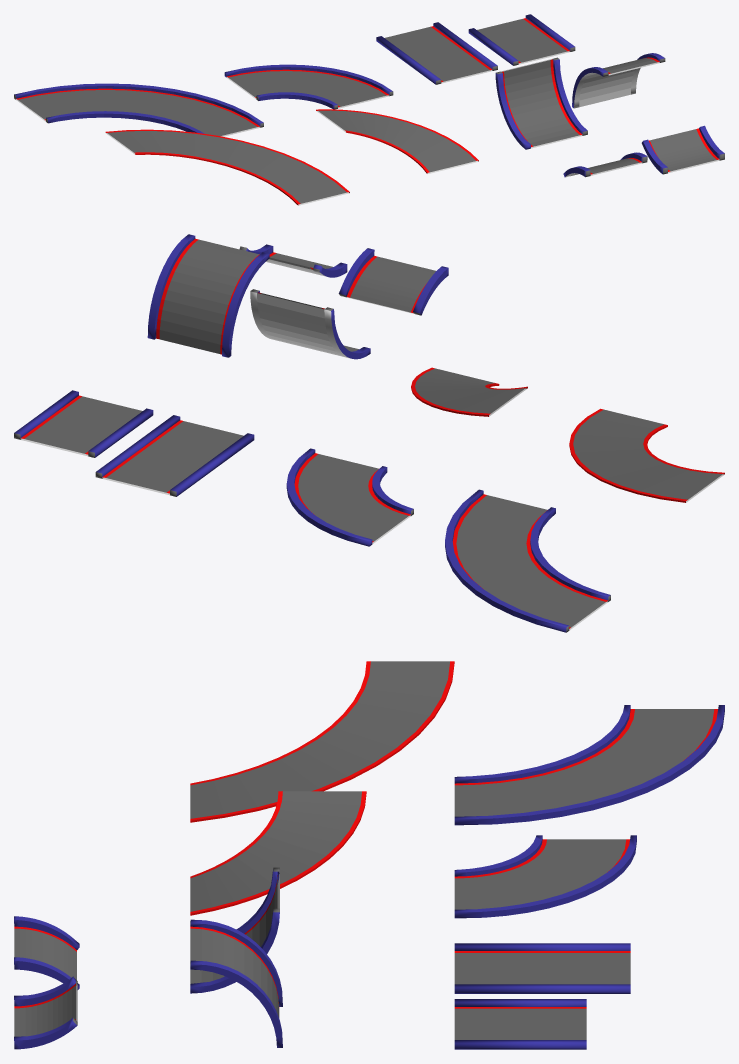
File: RaceTrack.fbx
The picture shows the model from 3 angles, top to bottom: view 1: azimuth 30°, elevation 25°; view 2: azimuth 150°, elevation 25°; view 3: azimuth 270°, elevation 25°; orthographic projection. The views are drawn at different scales.
Parts seen in each view (by area): view 1: Track_Curved_Long, Track_Curved_Ramp_Long, Track_Ramp_Up_Long, Track_Curved_Short, Track_Curved_Ramp_Short, Track_Main_Long, Track_Main_Short, Track_Ramp_Down_Long, Track_Ramp_Up_Short, Track_Ramp_Down_Short; view 2: Track_Curved_Long, Track_Ramp_Down_Long, Track_Curved_Short, Track_Curved_Ramp_Long, Track_Main_Long, Track_Main_Short, Track_Ramp_Down_Short, Track_Ramp_Up_Long, Track_Curved_Ramp_Short, Track_Ramp_Up_Short; view 3: Track_Curved_Long, Track_Curved_Ramp_Long, Track_Curved_Ramp_Short, Track_Curved_Short, Track_Main_Long, Track_Main_Short, Track_Ramp_Down_Long, Track_Ramp_Up_Short, Track_Ramp_Down_Short, Track_Ramp_Up_Long.
Boxes of the visible parts, x1,y1,x2,y2 form: Track_Curved_Long: [14, 83, 263, 136]; Track_Curved_Ramp_Long: [105, 129, 349, 205]; Track_Ramp_Up_Long: [495, 57, 587, 149]; Track_Curved_Short: [224, 64, 393, 109]; Track_Curved_Ramp_Short: [316, 109, 478, 174]; Track_Main_Long: [376, 22, 497, 84]; Track_Main_Short: [468, 14, 575, 65]; Track_Ramp_Down_Long: [572, 53, 665, 108]; Track_Ramp_Up_Short: [641, 125, 724, 174]; Track_Ramp_Down_Short: [563, 152, 647, 177]; Track_Curved_Long: [445, 489, 610, 632]; Track_Ramp_Down_Long: [147, 234, 269, 357]; Track_Curved_Short: [286, 448, 413, 546]; Track_Curved_Ramp_Long: [569, 408, 724, 502]; Track_Main_Long: [95, 415, 254, 496]; Track_Main_Short: [14, 390, 153, 457]; Track_Ramp_Down_Short: [338, 248, 448, 315]; Track_Ramp_Up_Long: [250, 289, 370, 359]; Track_Curved_Ramp_Short: [411, 367, 527, 416]; Track_Ramp_Up_Short: [239, 244, 347, 277]; Track_Curved_Long: [454, 705, 724, 825]; Track_Curved_Ramp_Long: [190, 661, 454, 822]; Track_Curved_Ramp_Short: [190, 791, 366, 915]; Track_Curved_Short: [454, 835, 636, 918]; Track_Main_Long: [454, 943, 630, 993]; Track_Main_Short: [454, 999, 586, 1049]; Track_Ramp_Down_Long: [190, 919, 282, 1047]; Track_Ramp_Up_Short: [14, 976, 77, 1049]; Track_Ramp_Down_Short: [14, 916, 79, 989]; Track_Ramp_Up_Long: [190, 867, 279, 993].
Size of the model in its own units: 9109 by 1075 by 8074.
